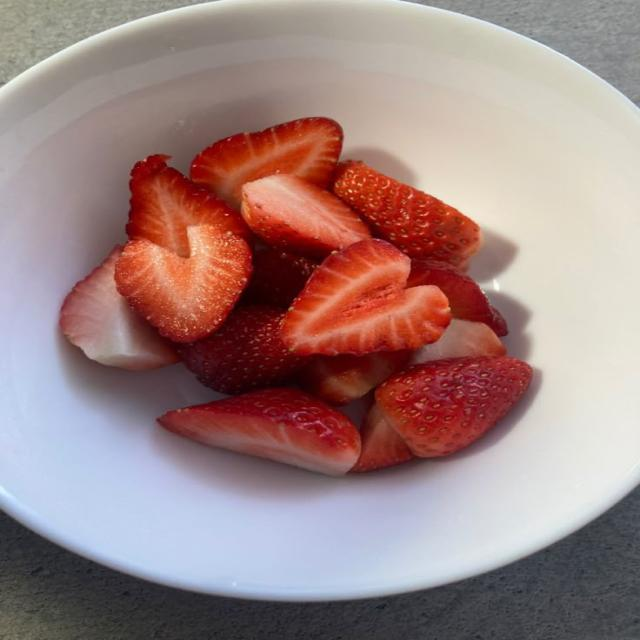strawberry sliced: (281, 239, 450, 354), (159, 388, 360, 475), (115, 226, 252, 342), (376, 356, 532, 457), (334, 161, 481, 264), (60, 246, 179, 370), (191, 117, 343, 208), (127, 155, 251, 257), (179, 305, 305, 394), (241, 175, 370, 257), (408, 260, 507, 335), (300, 351, 411, 405), (243, 247, 319, 308), (350, 403, 416, 472), (410, 318, 506, 364)
